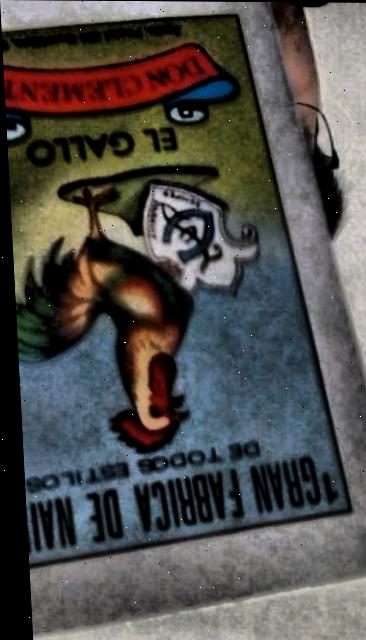Gallo: (3, 15, 343, 566)
